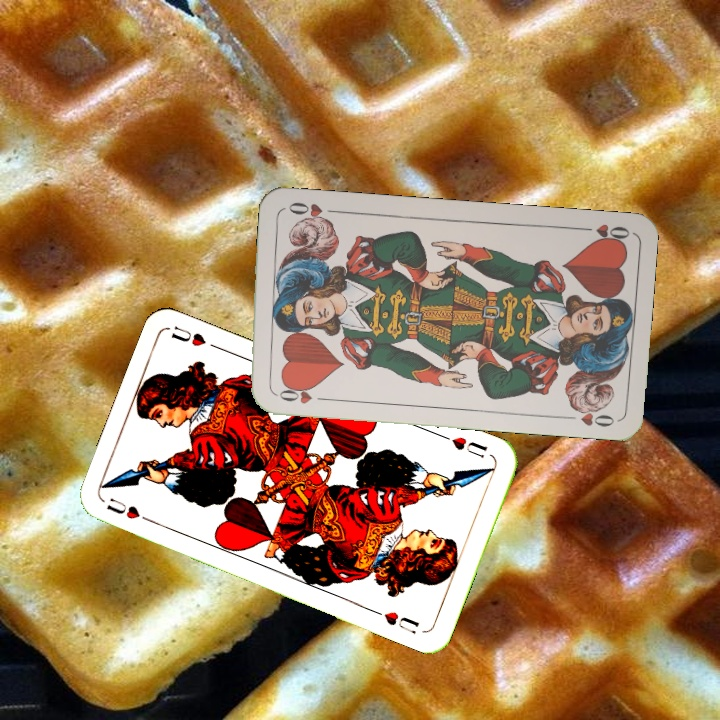HO: (270, 380, 329, 407), (573, 219, 632, 246)
HU: (102, 494, 157, 527), (447, 432, 490, 461)
